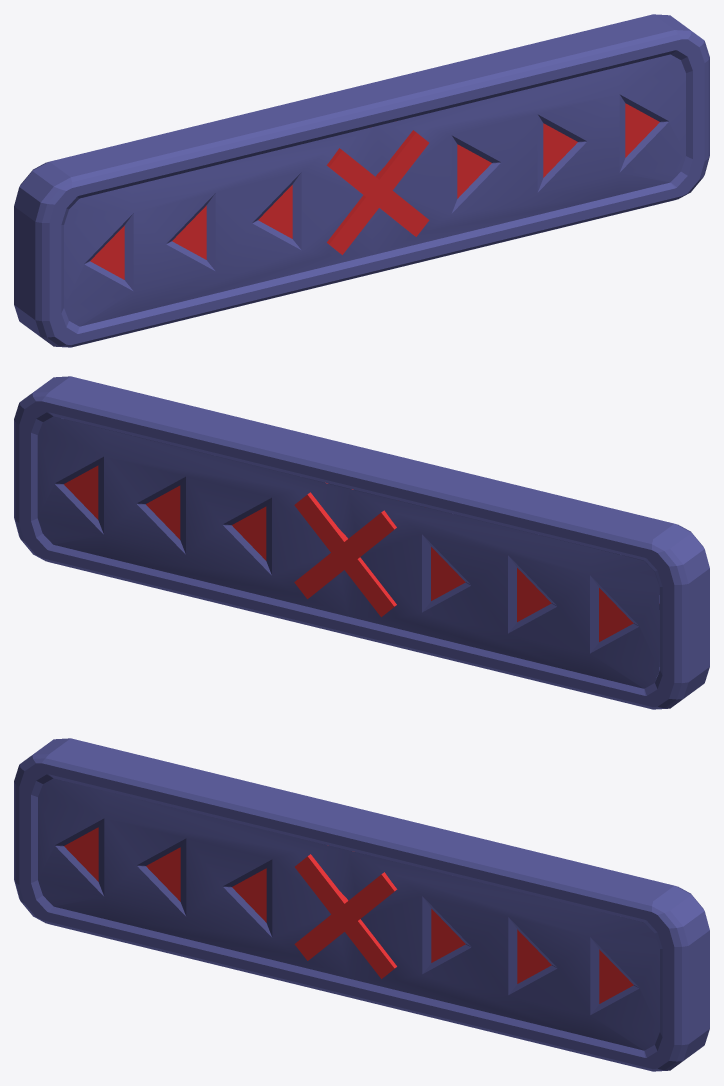
File: Door_2023.fbx
3 renders of one model, top to bottom at view 1: azimuth 30°, elevation 25°; view 2: azimuth 150°, elevation 25°; view 3: azimuth 330°, elevation 25°, orthographic.
Visible parts, largest first — view 1: Plane.001, Cube.003; view 2: Plane.001, Cube.003; view 3: Plane.001, Cube.003.
Part boxes in pixels (<box>): Plane.001: <box>64,54,685,326</box>; Cube.003: <box>14,14,709,347</box>; Plane.001: <box>37,416,659,688</box>; Cube.003: <box>14,376,709,709</box>; Plane.001: <box>38,778,659,1050</box>; Cube.003: <box>14,738,709,1071</box>.
Bounding box in the file's own units: 952 × 230 × 85.88.
